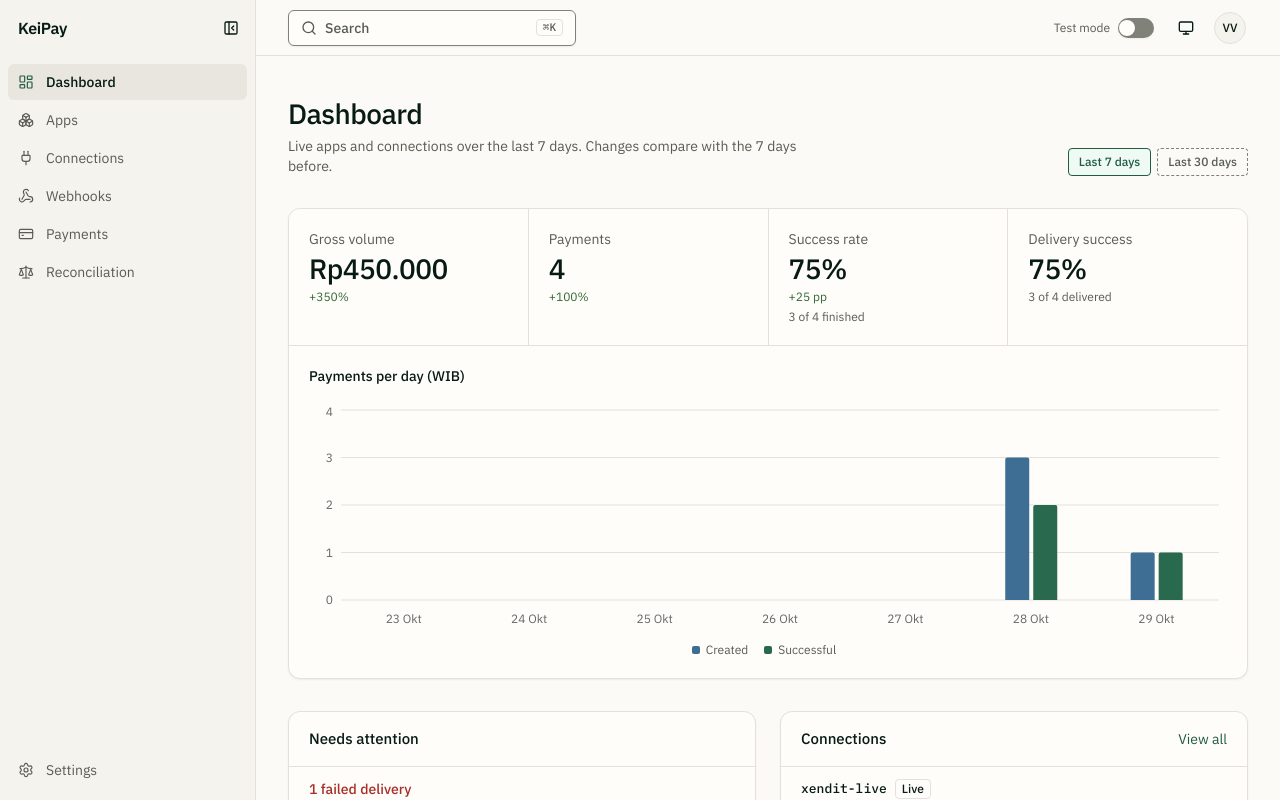
it: App shell › has one account menu, opened from the signed-in user's initials
What coordinates should you click on to do the following:
click the button with aria-label "Account menu"
I would click on:
 (1230, 28)
Its box is [1212,10,1248,46].
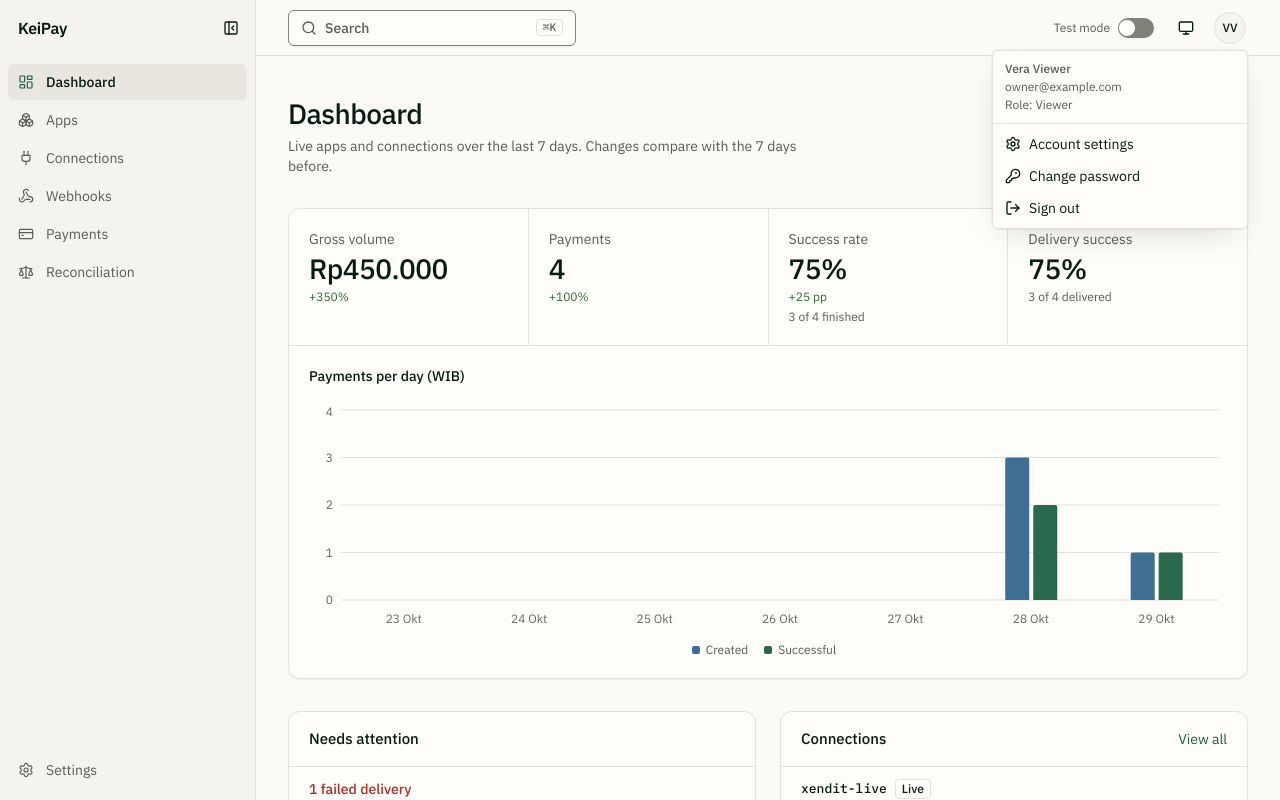
Check: the element with test id "user-menu-identity" shows "Vera Viewer", box [1005,61,1071,76]
Check: the element with test id "user-menu-identity" shows "Viewer", box [1005,61,1071,76]
